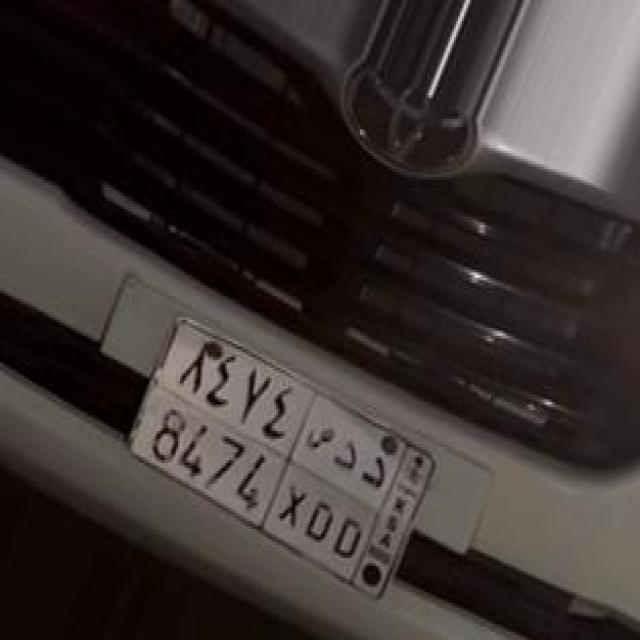Car-plate: (104, 297, 464, 631)
